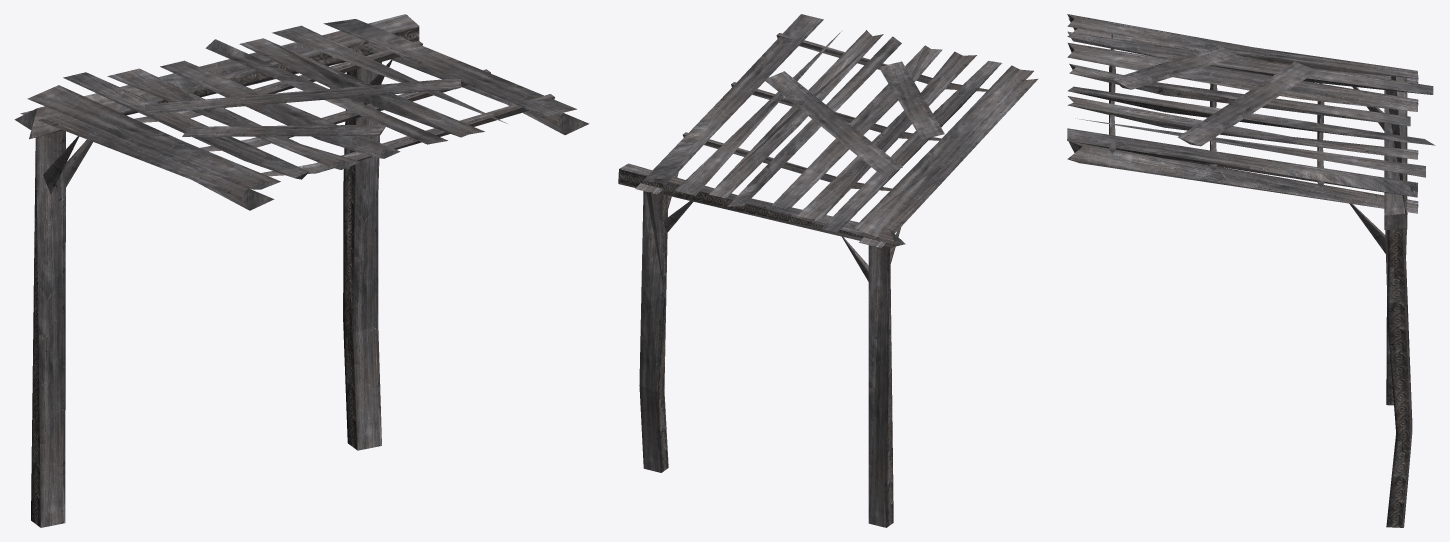
The model's file is tavern_smallRoof_LOD.dae.
The picture shows the model from 3 angles, left to right: view 1: azimuth 30°, elevation 25°; view 2: azimuth 150°, elevation 25°; view 3: azimuth 270°, elevation 25°; orthographic projection. The views are drawn at different scales.
Parts seen in each view (by area): view 1: Default_Layer; view 2: Default_Layer; view 3: Default_Layer.
Boxes of the visible parts, left/top/right/bottom form: Default_Layer: left=14, top=14, right=589, bottom=527; Default_Layer: left=618, top=14, right=1038, bottom=527; Default_Layer: left=1067, top=14, right=1435, bottom=527.
Size of the model in its own units: 6.29 by 7.53 by 6.51.
